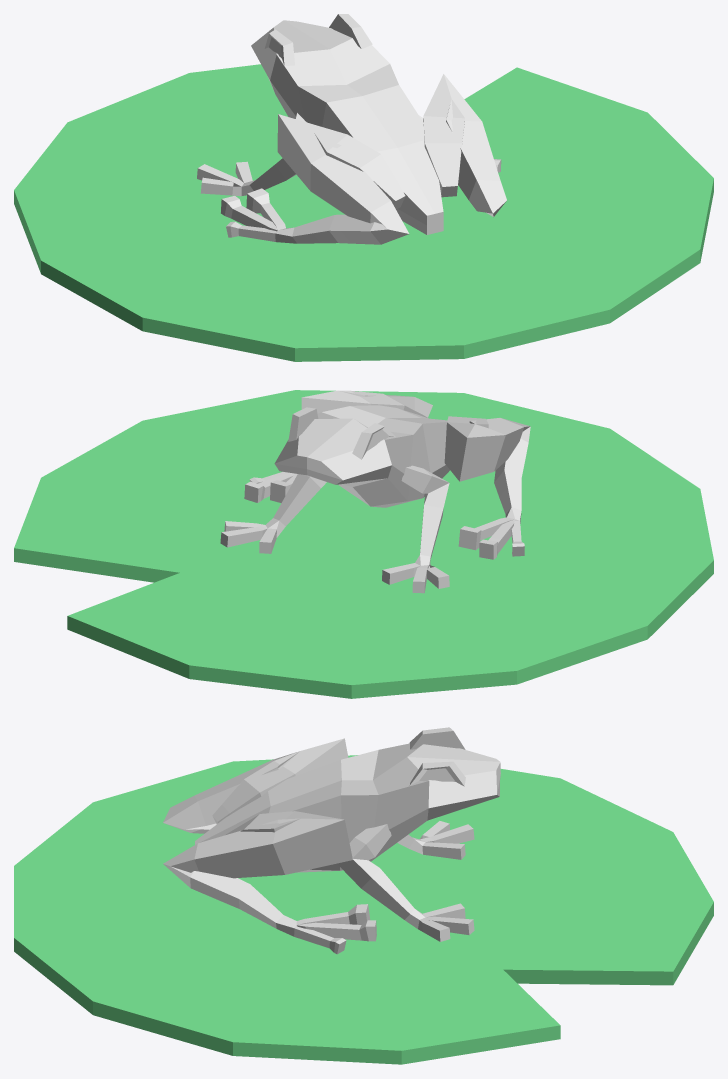
Rendered from frog.fbx.
3 views of the same model, one above another, from view 1: azimuth 30°, elevation 25°; view 2: azimuth 150°, elevation 25°; view 3: azimuth 270°, elevation 25° (orthographic).
Visible parts, largest first — view 1: Lilly, Legs, Body, Arms, Eyes; view 2: Lilly, Body, Legs, Arms, Eyes; view 3: Lilly, Legs, Body, Arms, Eyes.
Boxes of the visible parts, <box> form: Lilly: <box>14,64,713,361</box>; Legs: <box>221,74,506,244</box>; Body: <box>251,20,443,234</box>; Arms: <box>197,113,423,196</box>; Eyes: <box>264,14,372,65</box>; Lilly: <box>14,390,713,698</box>; Body: <box>274,405,449,507</box>; Legs: <box>244,390,530,559</box>; Arms: <box>220,465,449,593</box>; Eyes: <box>288,407,395,459</box>; Lilly: <box>14,755,713,1064</box>; Legs: <box>163,738,376,954</box>; Body: <box>195,743,500,872</box>; Arms: <box>337,821,474,941</box>; Eyes: <box>409,727,465,786</box>.
Size of what is drawn, in the model's own units: 745 by 205 by 739.
